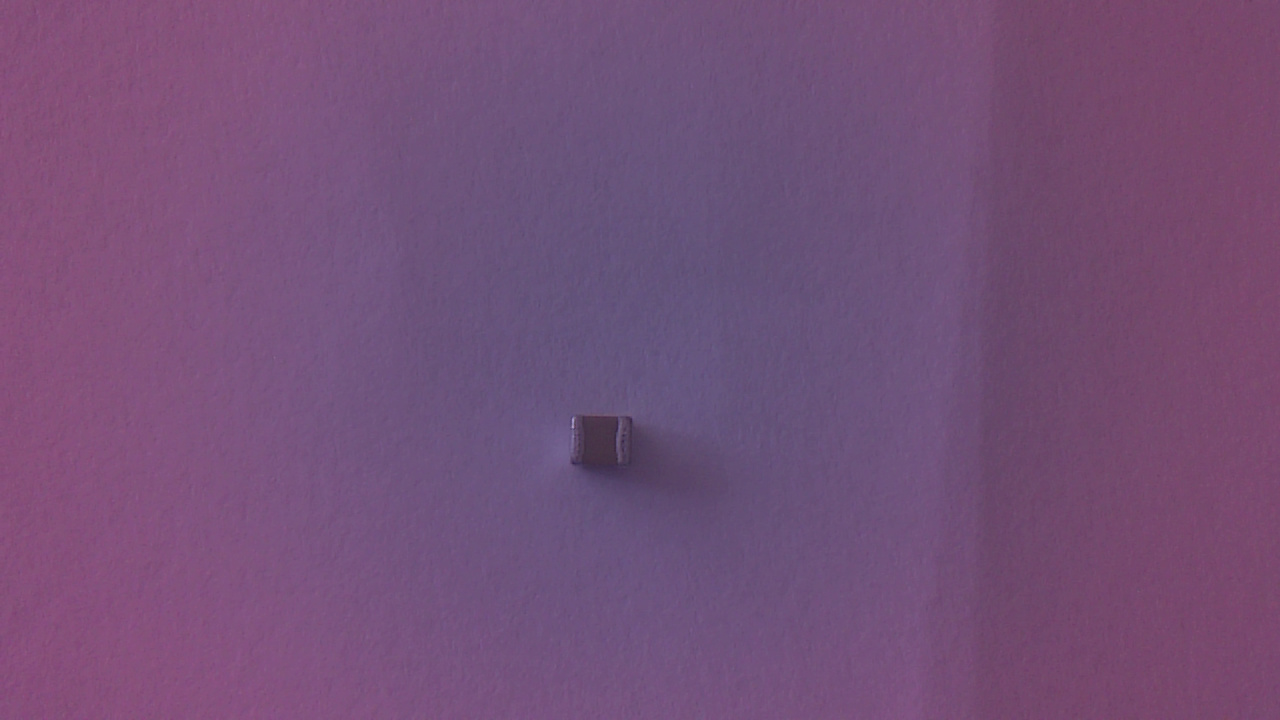Condensator: (569, 412, 645, 483)
